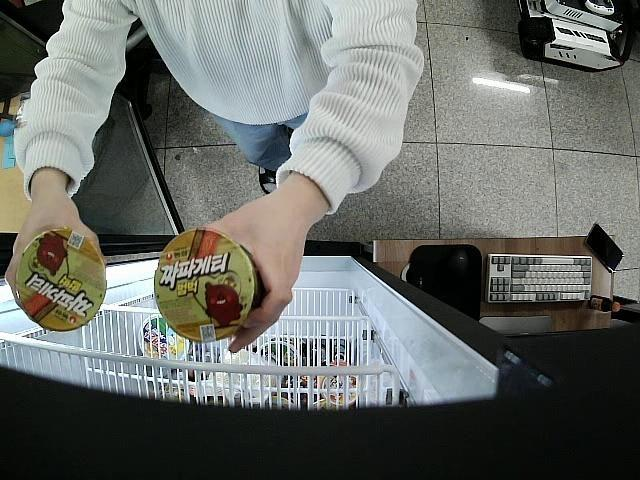04_chapagetti_S: (152, 230, 264, 344), (18, 228, 106, 332)
